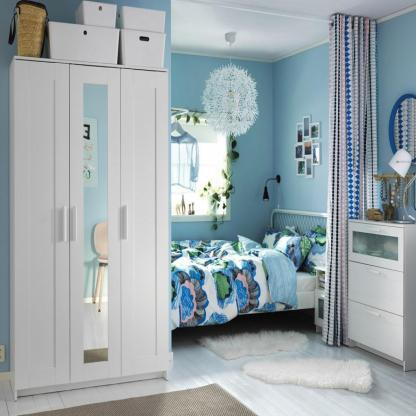Bed: (172, 206, 330, 333)
